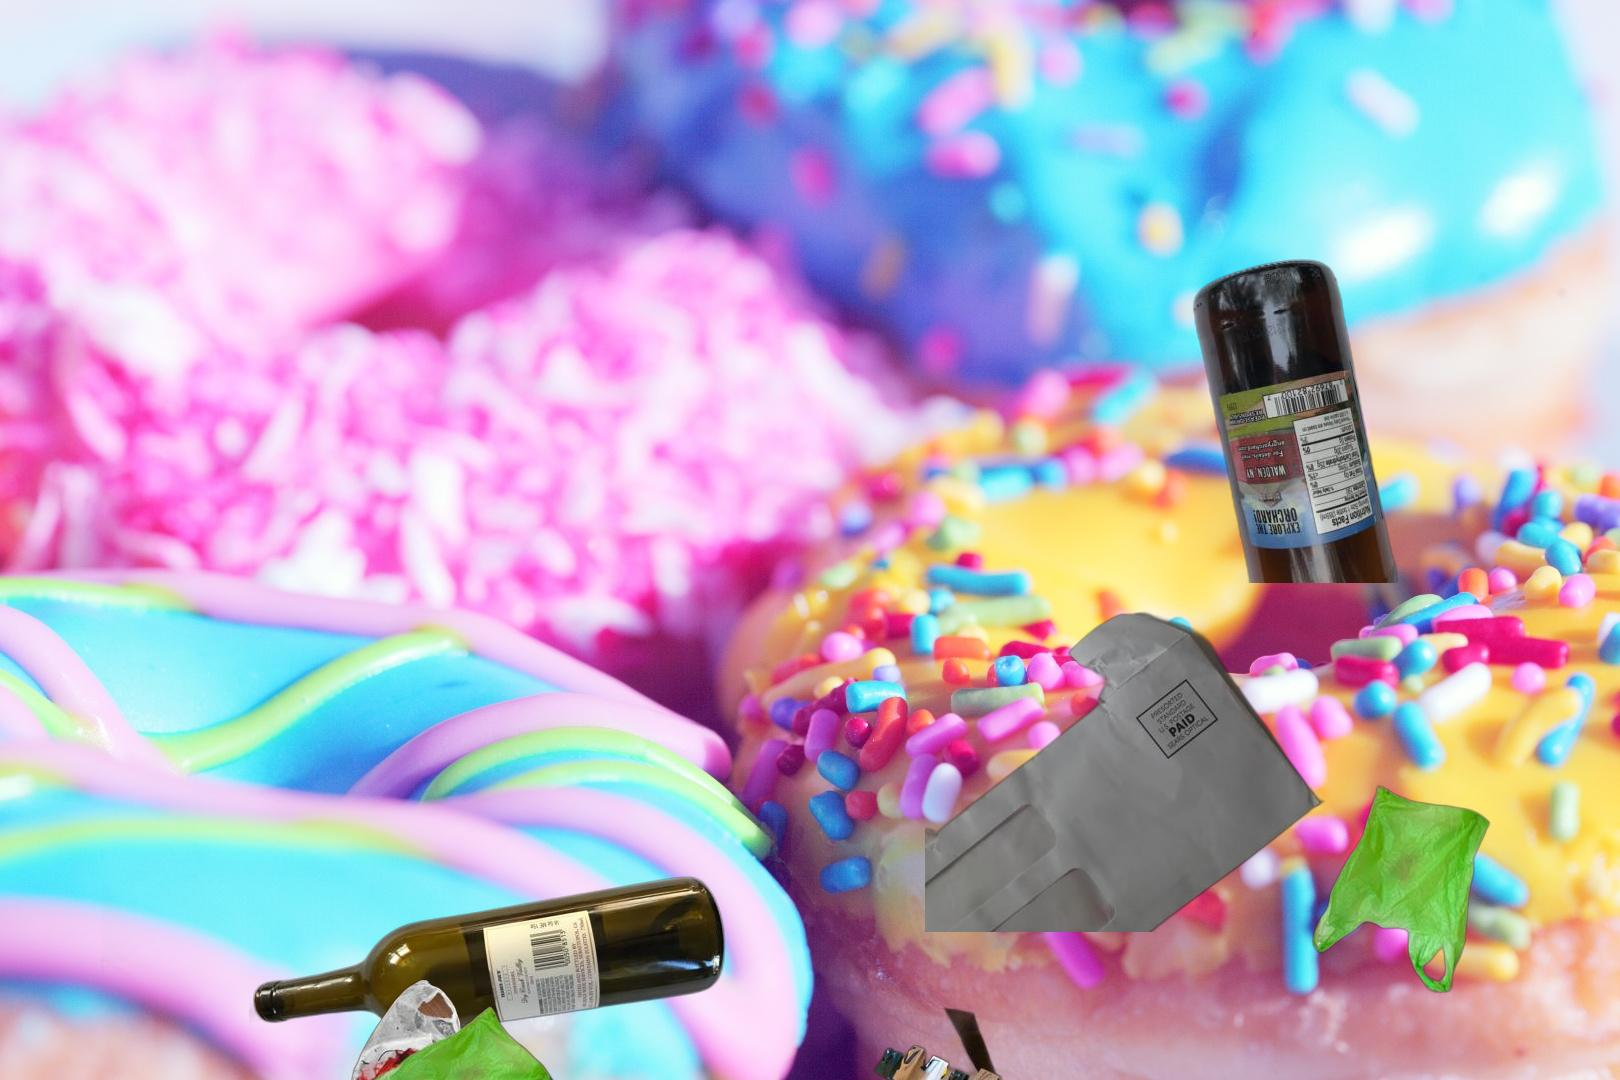glass: (250, 874, 729, 1035), (1190, 256, 1402, 583)
metal-cans: (101, 840, 485, 1080)
paper: (925, 609, 1326, 932)
paper-bag: (871, 1005, 1035, 1080)
plastic-bag: (270, 937, 570, 1080), (1310, 783, 1492, 994)
